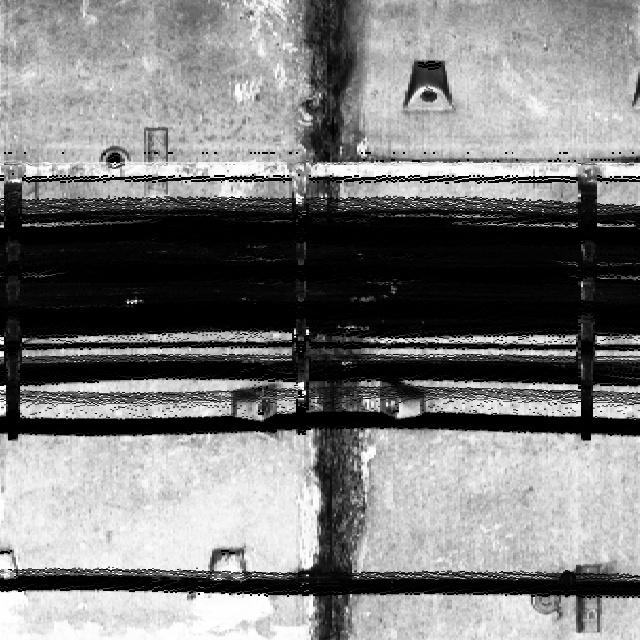leakage: (290, 355, 370, 639), (278, 0, 368, 199)
